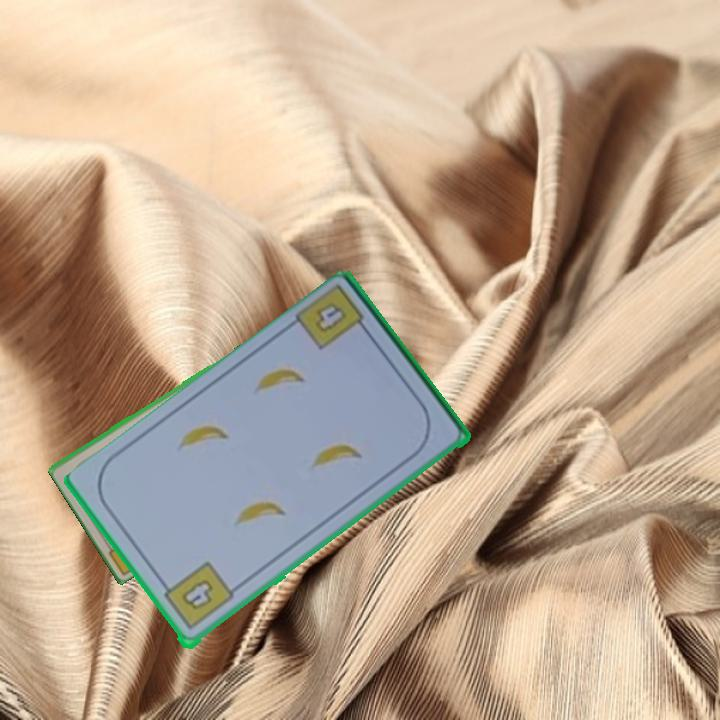4b: (157, 558, 236, 633), (292, 282, 374, 354)
